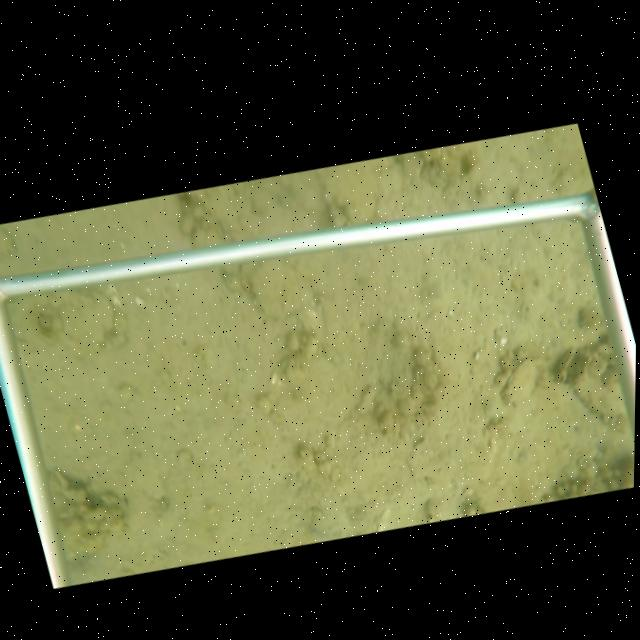Oyster-Indeterminate: (242, 258, 321, 323), (496, 355, 540, 405)
